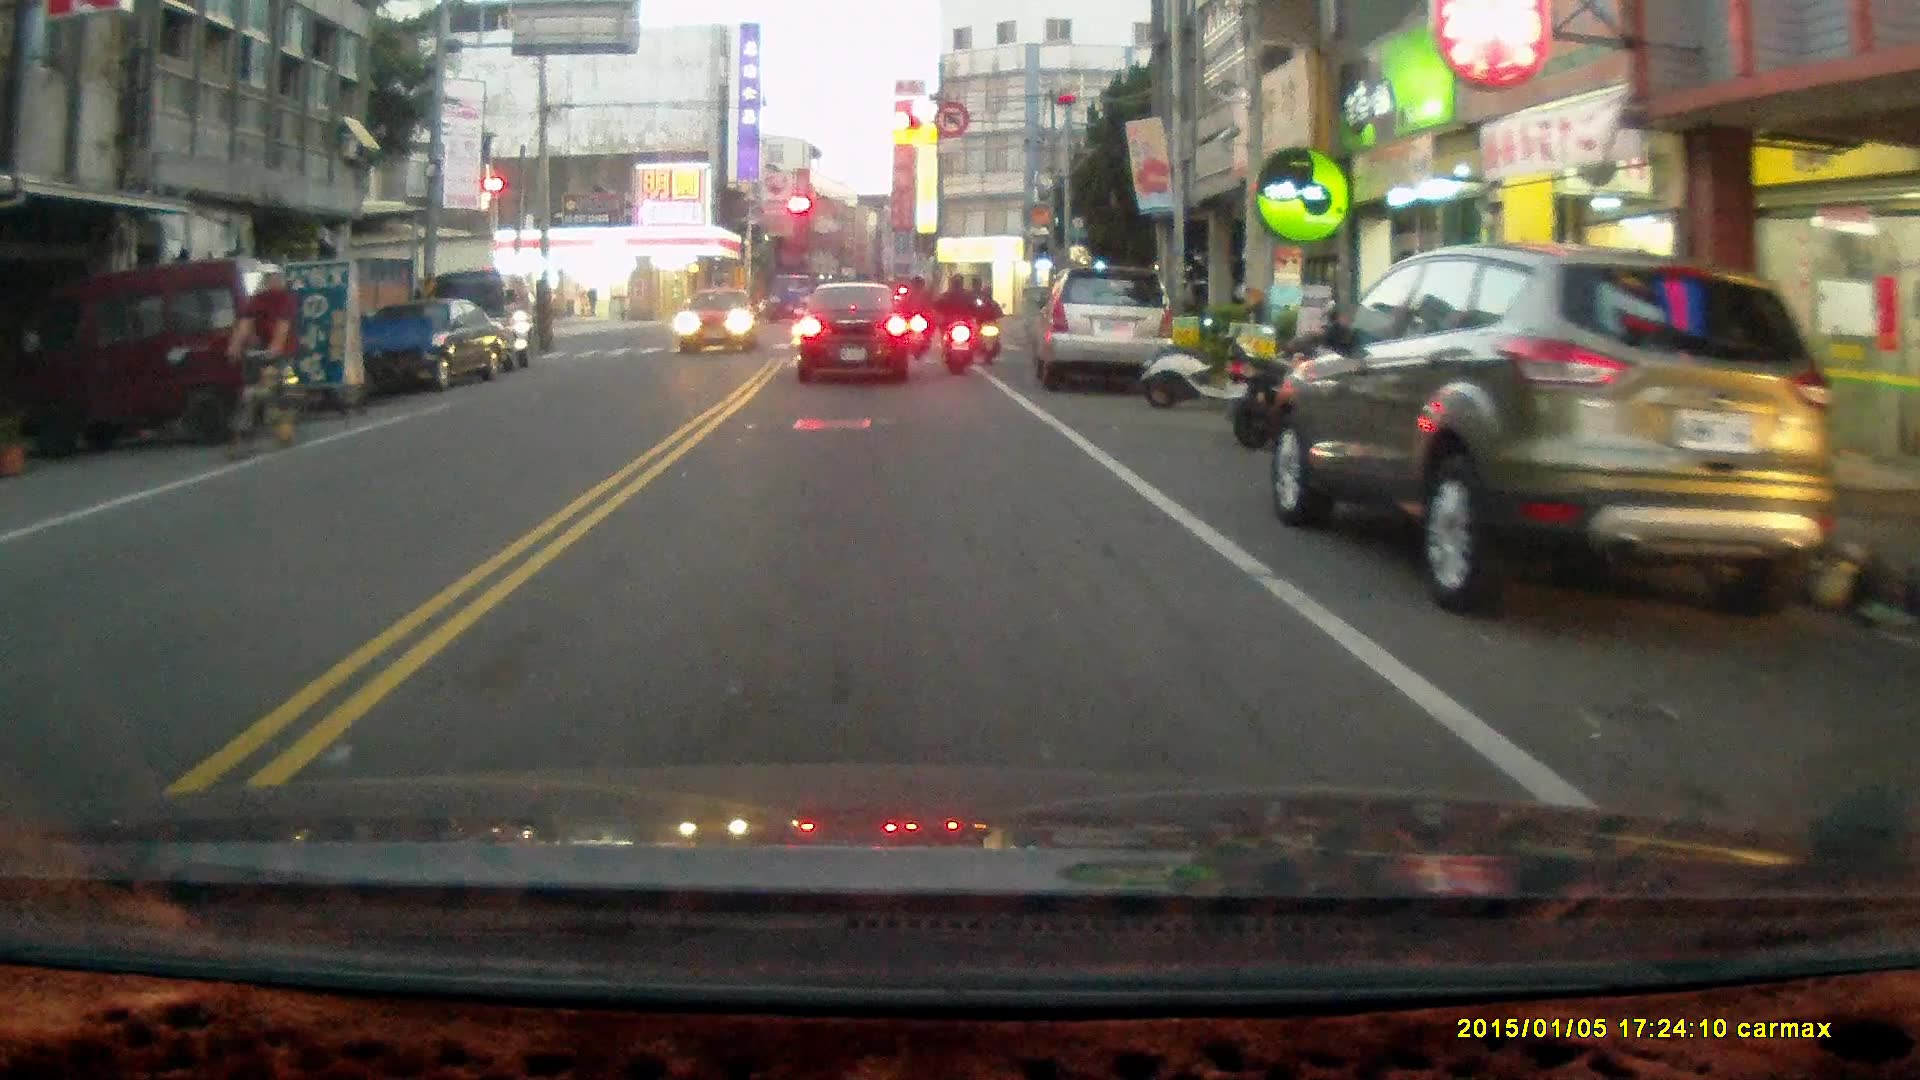rider: (221, 260, 307, 465), (935, 271, 984, 378), (897, 273, 934, 363), (974, 283, 1005, 366)
vehicle: (1275, 243, 1844, 618), (12, 259, 298, 450), (1033, 266, 1180, 397), (361, 296, 507, 394), (800, 281, 918, 388), (682, 287, 764, 357)
